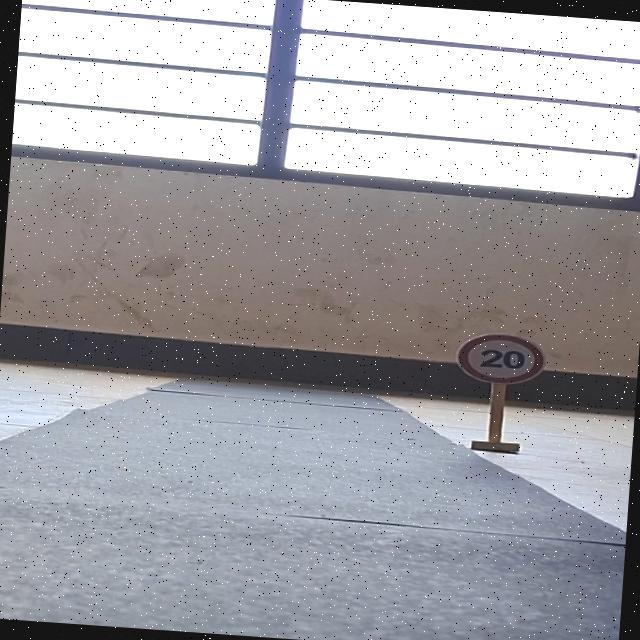Speed20: (448, 326, 550, 390)
